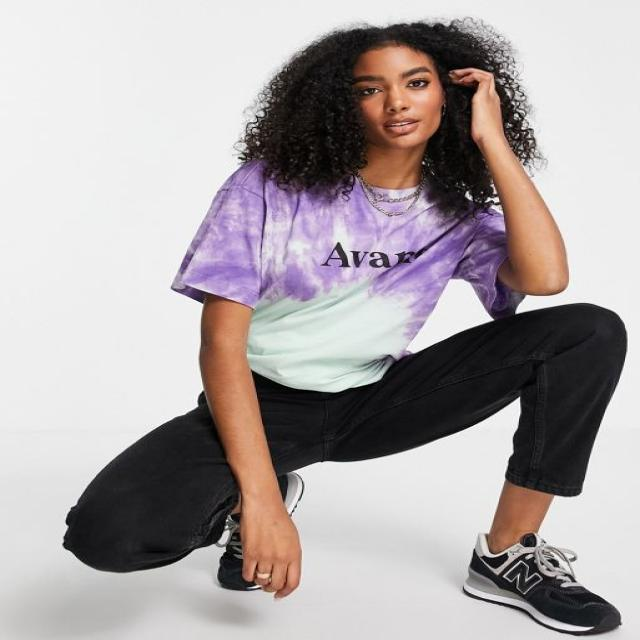tshirt: (167, 152, 528, 395)
